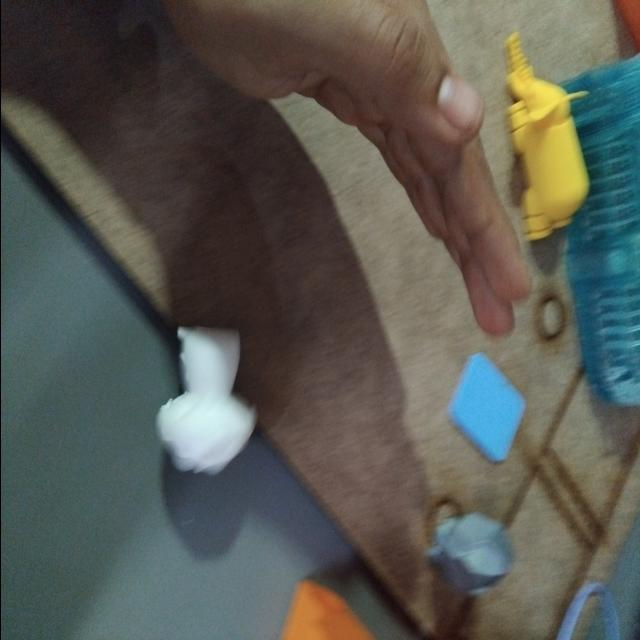Hongo: (147, 323, 270, 484)
